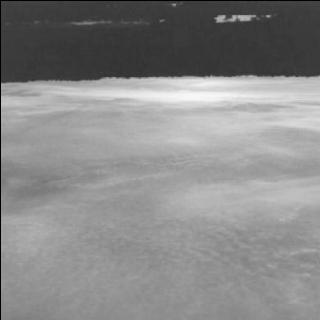Altostratus: (0, 88, 294, 307)
